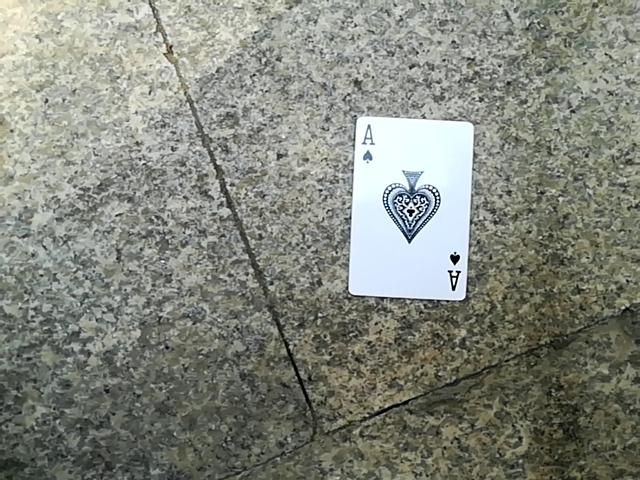ht a: (345, 111, 464, 300)
